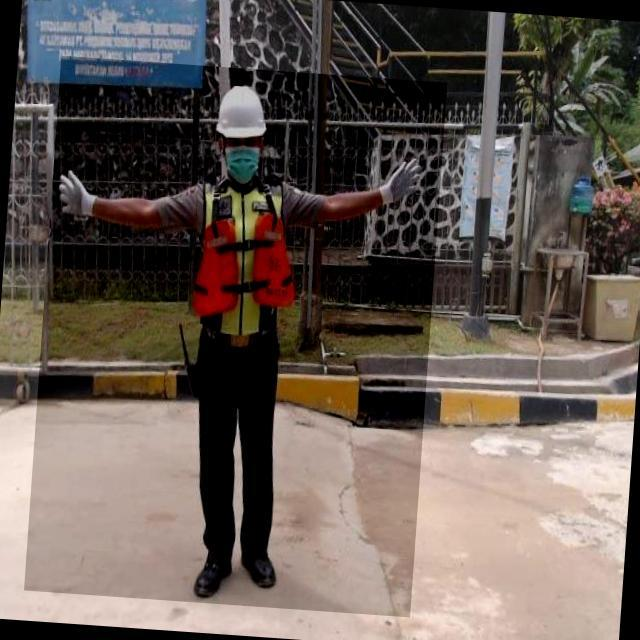Helmet: (215, 77, 275, 147)
Human: (24, 55, 448, 617)
Safety Boot: (237, 533, 289, 592), (193, 547, 242, 602)
Safety Vest: (181, 174, 312, 340)
